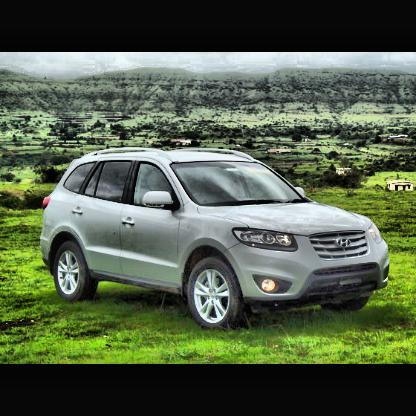Hyundai Santa Fe SUV 2012: (42, 147, 391, 333)
